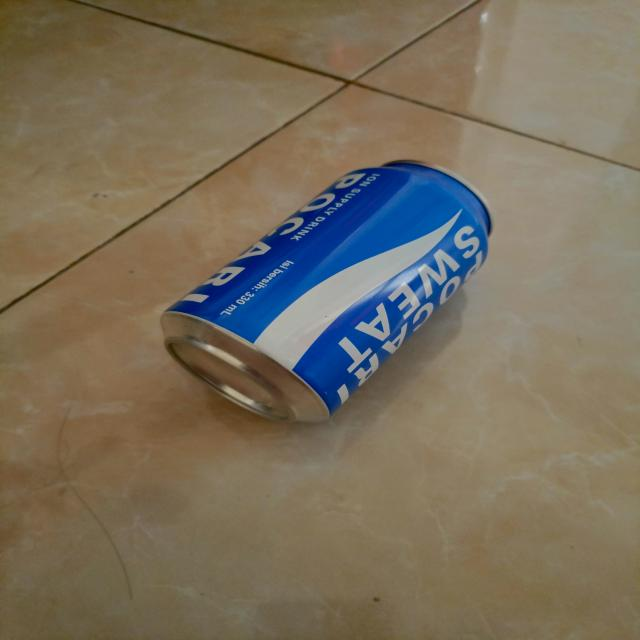pocari-sweat: (158, 158, 492, 426)
